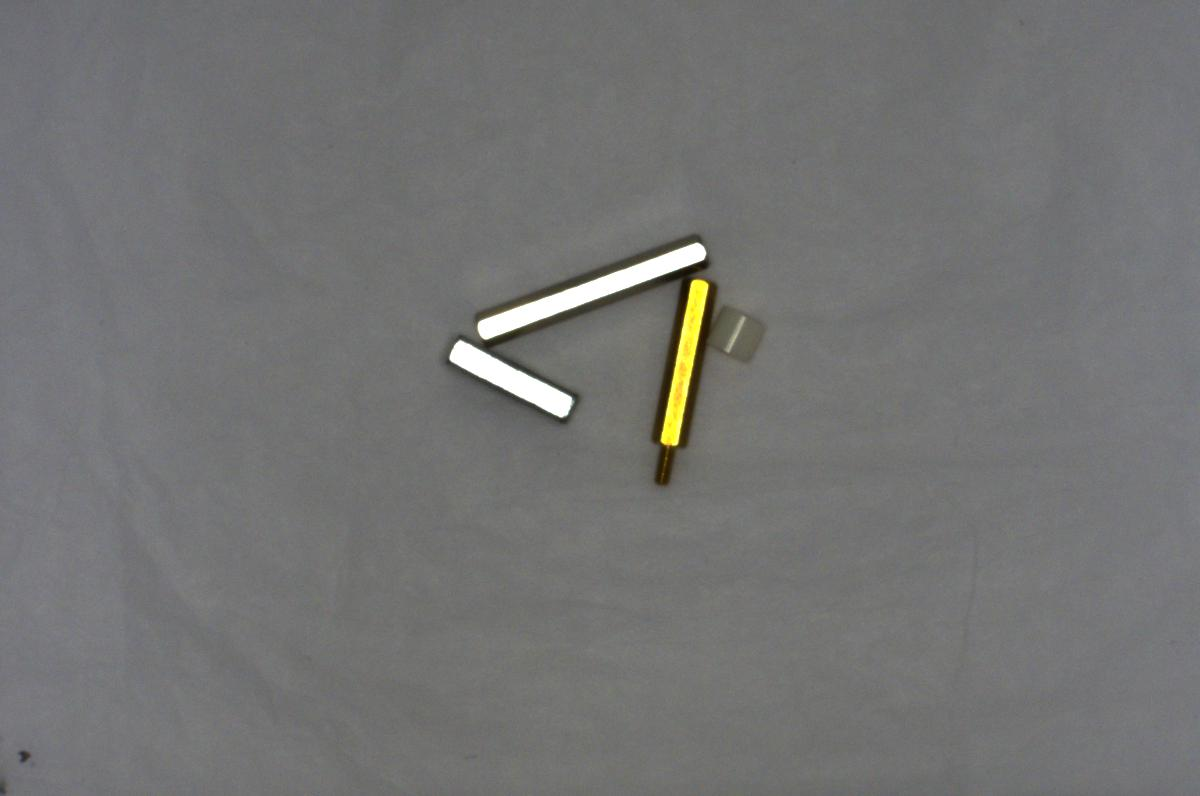Double hexagonal column: (455, 223, 717, 353)
Hexagon pillar: (640, 274, 713, 489)
Plastic cushion pillar: (708, 301, 768, 365)
Rectangular nut: (433, 332, 584, 430)
